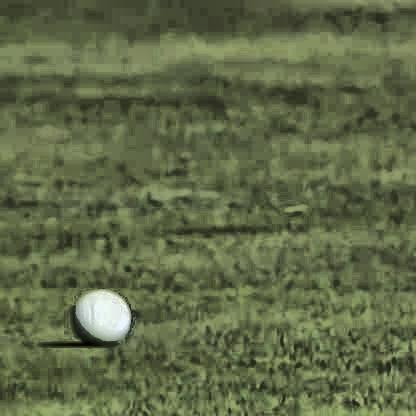golfball: (69, 288, 128, 344)
